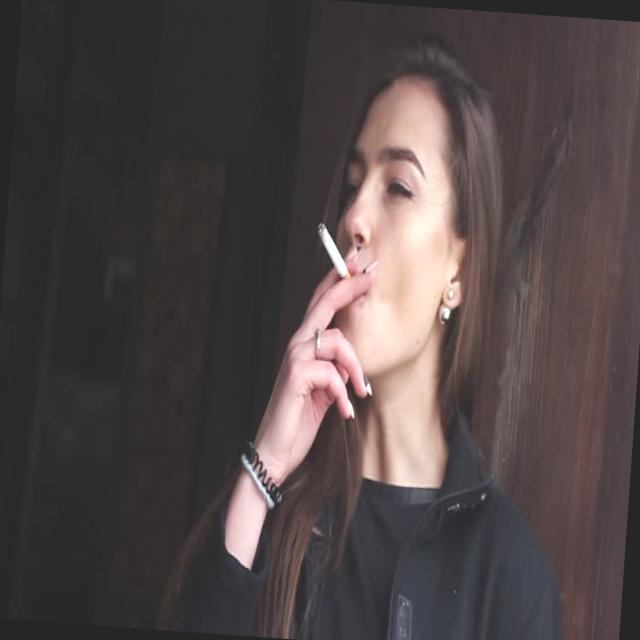cigarette: (312, 223, 354, 290)
